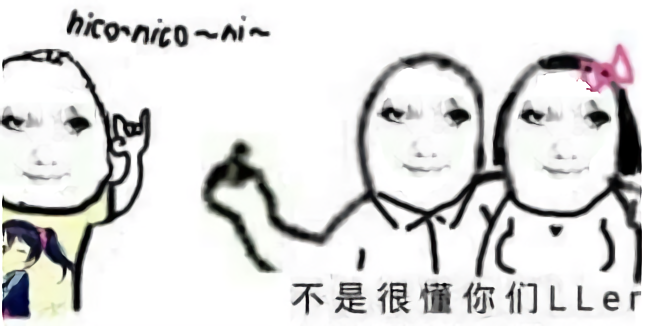dragon: (382, 96, 469, 177), (2, 107, 90, 186), (520, 103, 611, 179)
